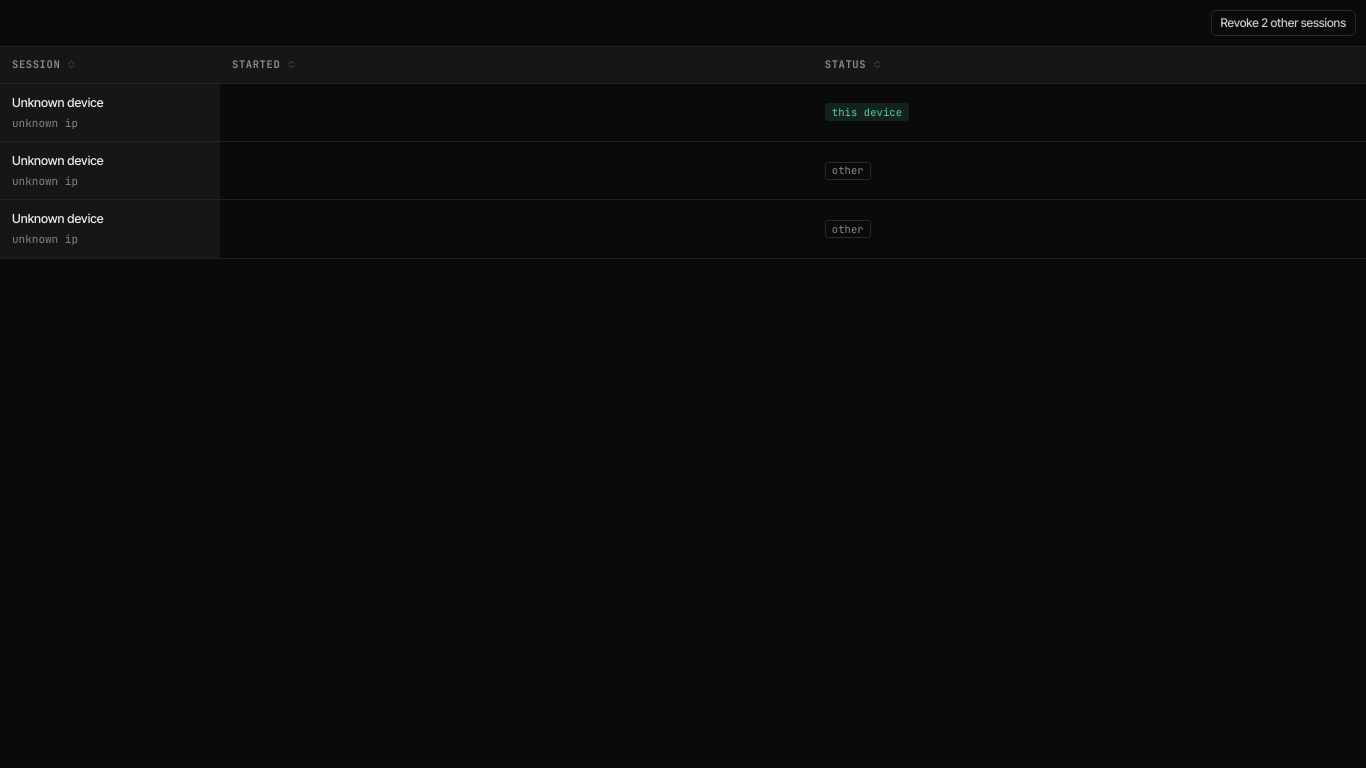
SessionsList revoke others › still warns about keys when the count is unknown
Click the button "Revoke 2 other sessions" at [1283, 23], box [1210,10,1356,36]
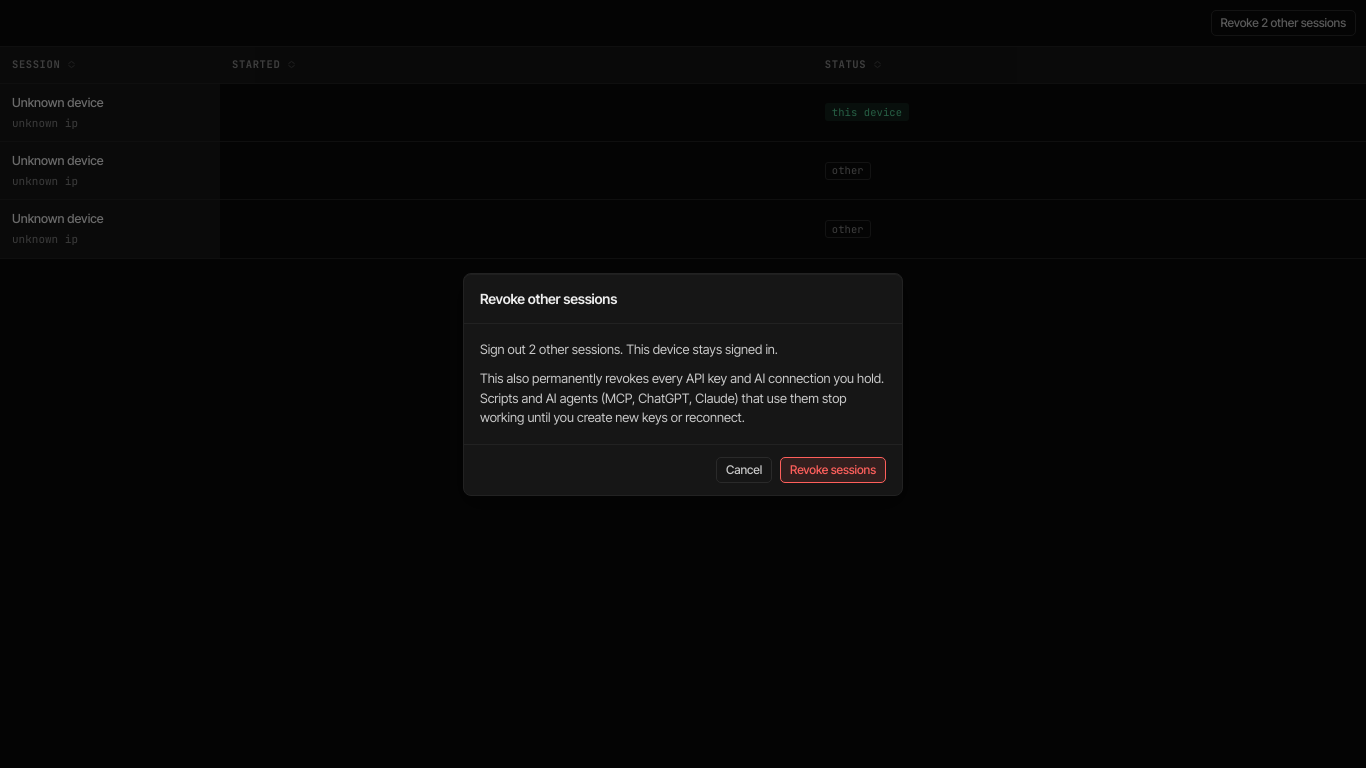
Check: the dialog shows "permanently revokes every API key", box [480,370,884,425]
